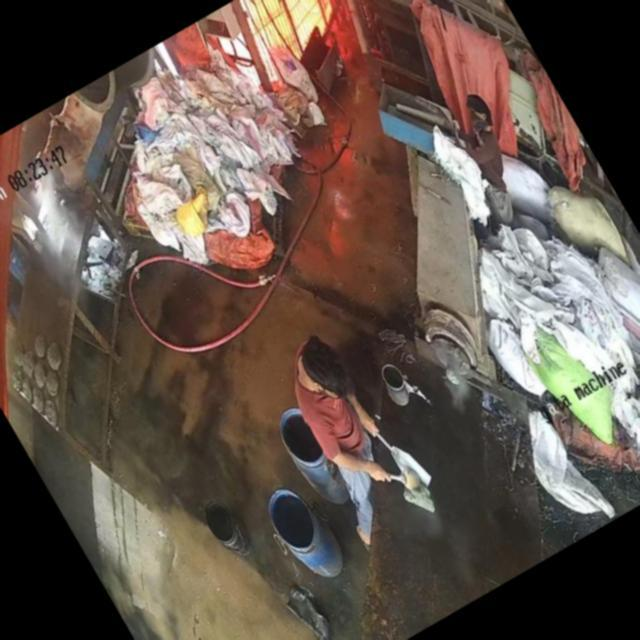person: (262, 330, 420, 534), (451, 88, 532, 188)
